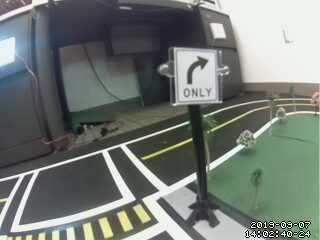Right_only_sign: (167, 42, 217, 106)
